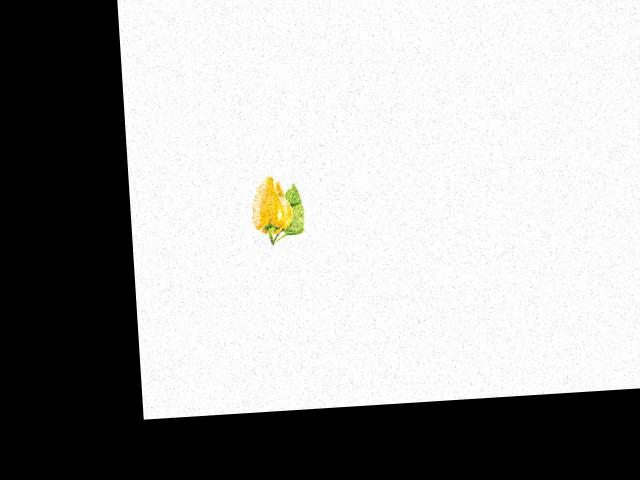bell_pepper: (246, 173, 295, 248)
